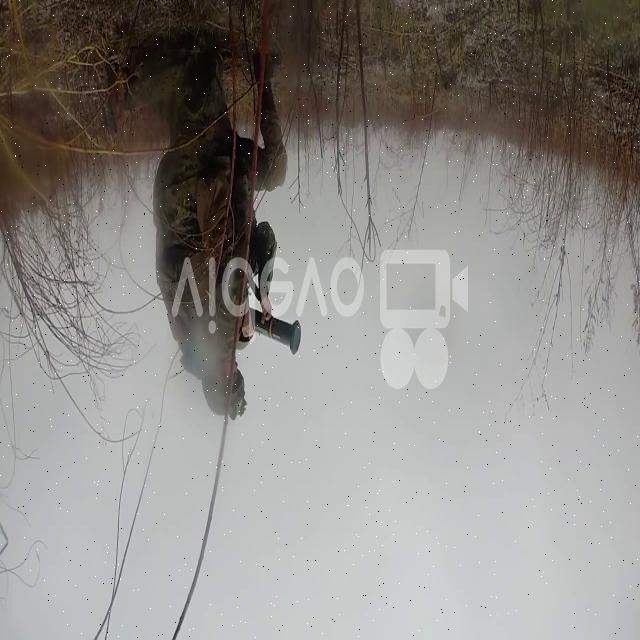bazooka: (251, 311, 305, 358)
